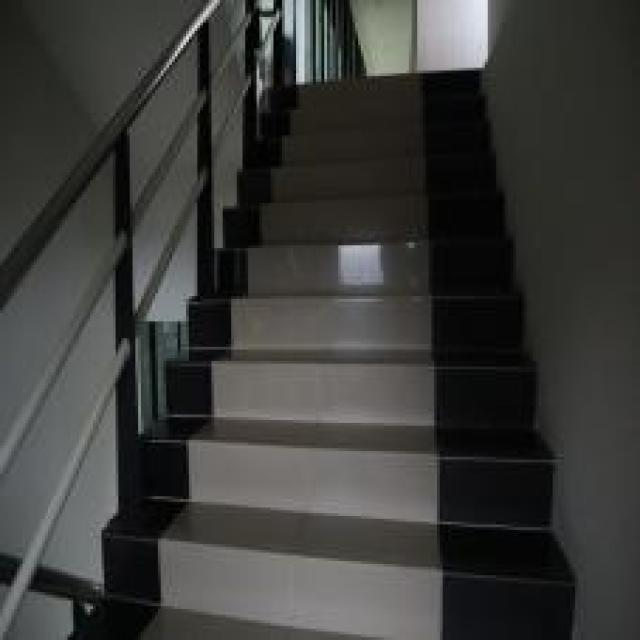upstair: (255, 80, 514, 638)
